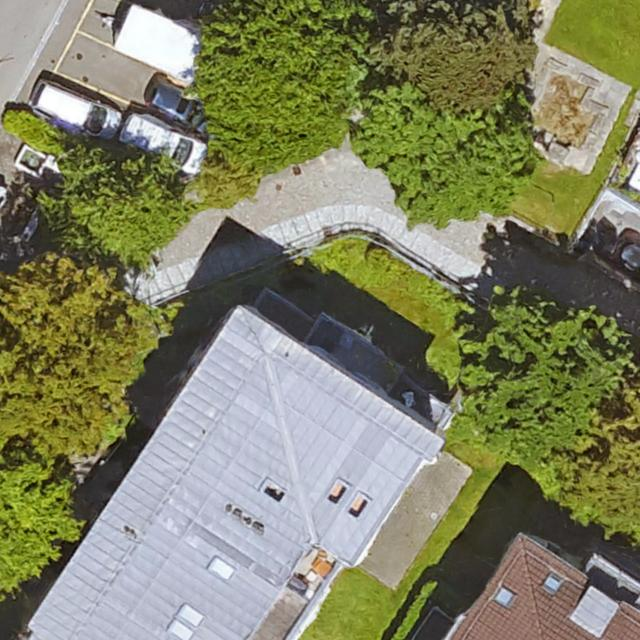tree: (458, 293, 636, 459), (1, 257, 141, 457), (198, 0, 358, 165), (358, 81, 536, 219), (381, 0, 530, 109), (41, 146, 184, 255), (0, 458, 79, 592), (567, 422, 640, 536), (196, 154, 256, 205)
